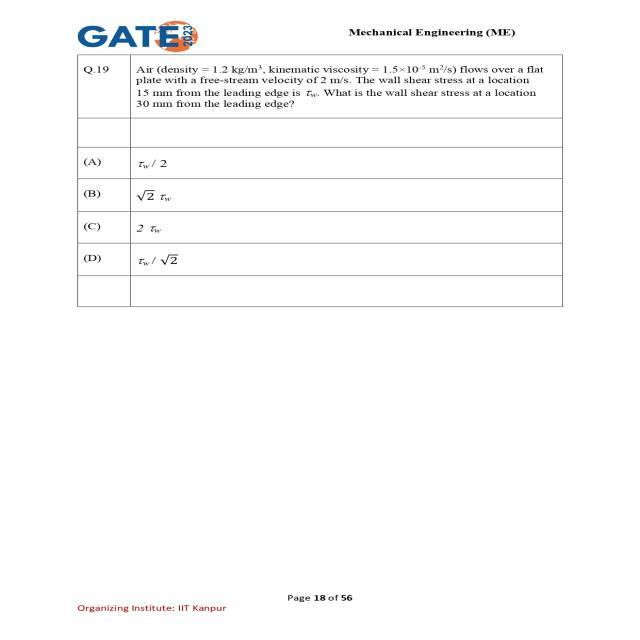Answer_Block: (73, 116, 568, 276)
Question_Answer_Block: (74, 56, 564, 276)
Question_Block: (75, 54, 567, 120)
Question_Paper_Area: (76, 56, 562, 310)
